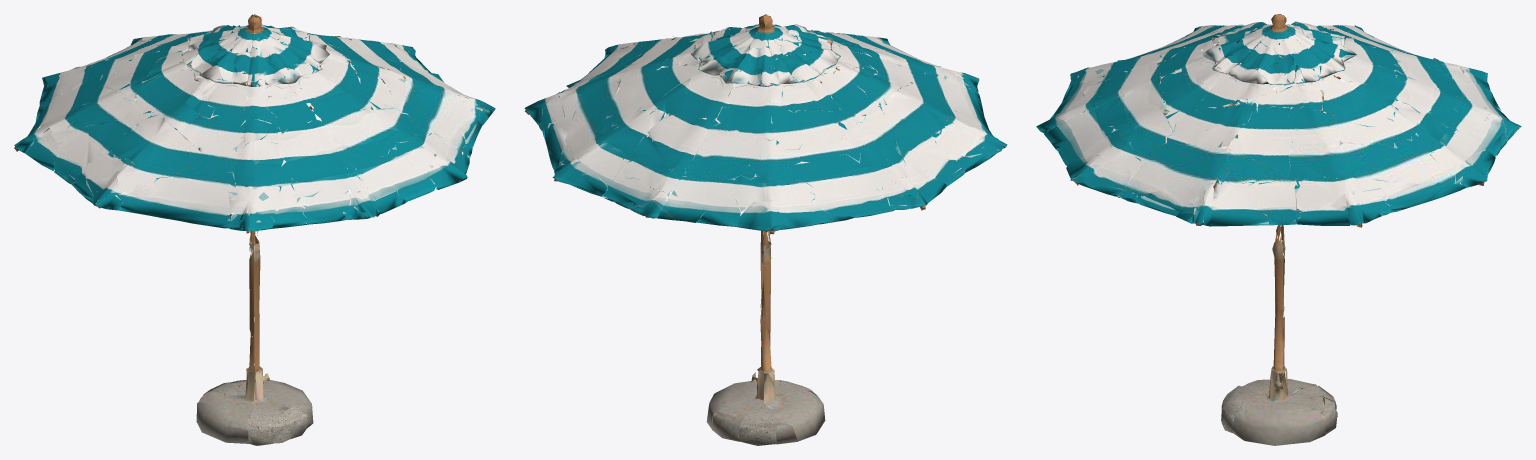
File: umbrella.glb
3 views of the same model, side by side, from view 1: azimuth 30°, elevation 25°; view 2: azimuth 150°, elevation 25°; view 3: azimuth 270°, elevation 25° (orthographic).
Parts seen in each view (by area): view 1: Mesh_0; view 2: Mesh_0; view 3: Mesh_0.
Boxes of the visible parts, x1,y1,x2,y2 form: Mesh_0: [14, 14, 495, 445]; Mesh_0: [524, 14, 1007, 445]; Mesh_0: [1036, 14, 1521, 445].
Bounding box in the file's own units: 1.82 × 1.77 × 1.91.
1 material, 1 textured.
